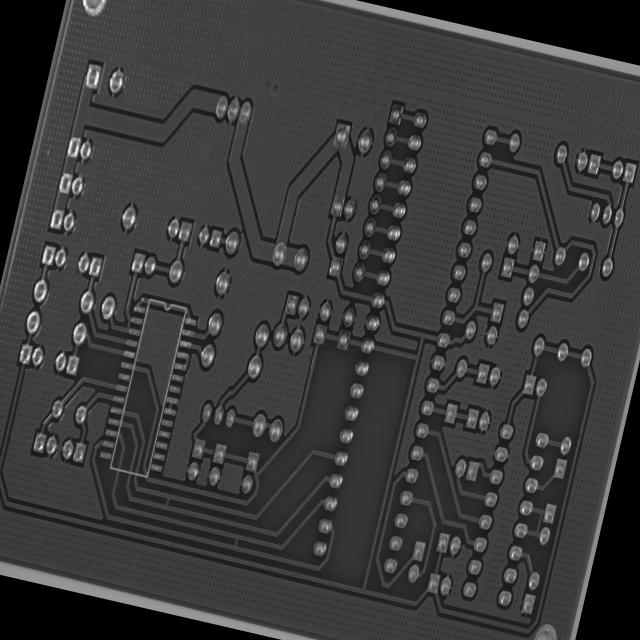short: (528, 501, 552, 543), (228, 528, 244, 552), (122, 310, 136, 332), (160, 491, 174, 512)
